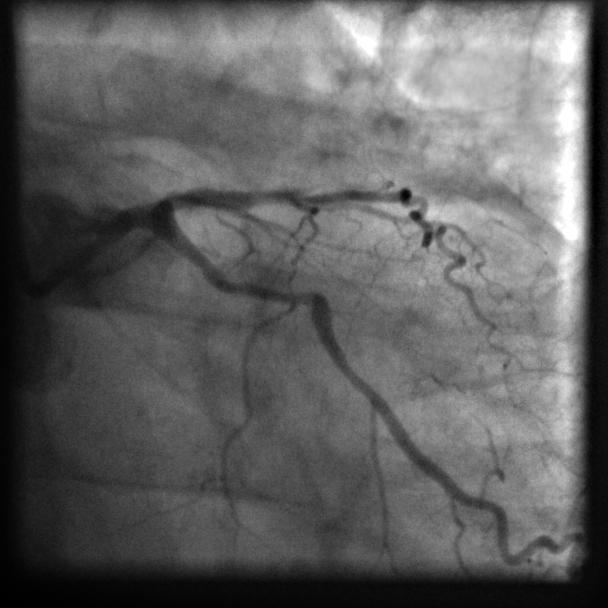Stenosis: (221, 270, 320, 320)
